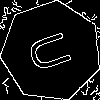U: (26, 26, 82, 75)
